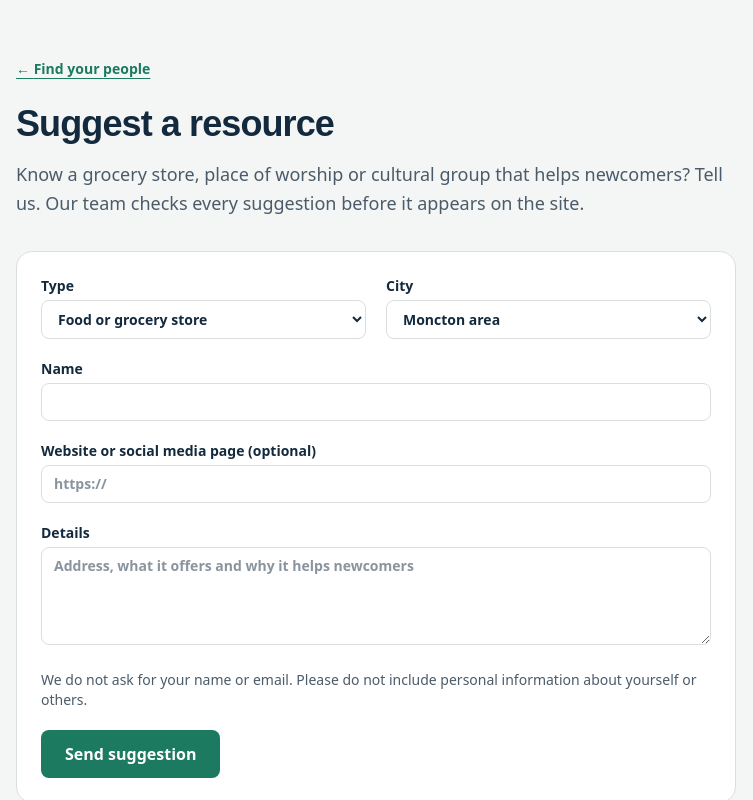
Scenario: SuggestPage › lists approved suggestions and sends a new one for review
Select "Place of worship" in the dropdown labelled "Type" at (204, 319), box [41,300,366,338]
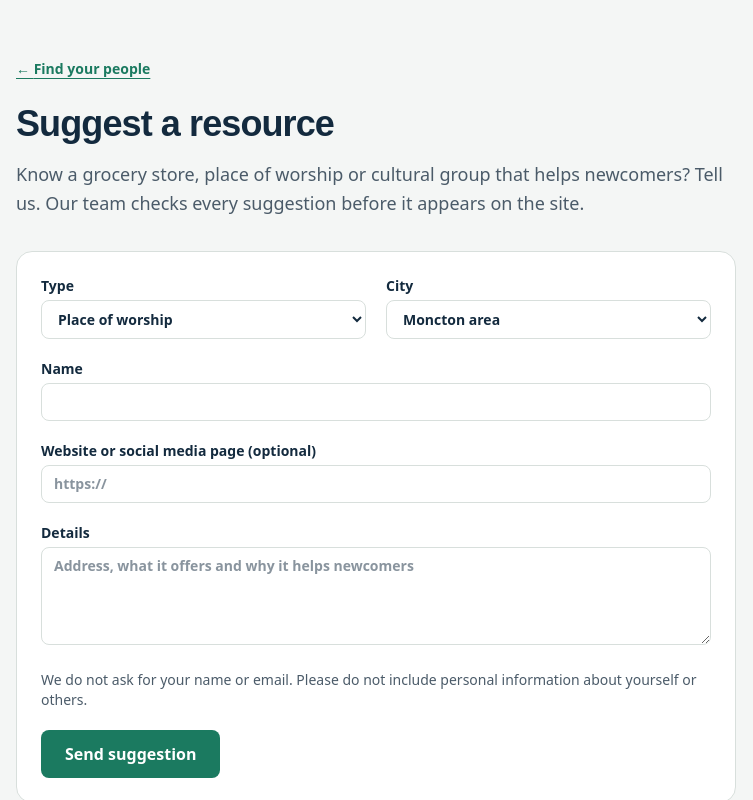
Select "Fredericton" in the dropdown labelled "City" at (548, 319), box [386,300,711,338]
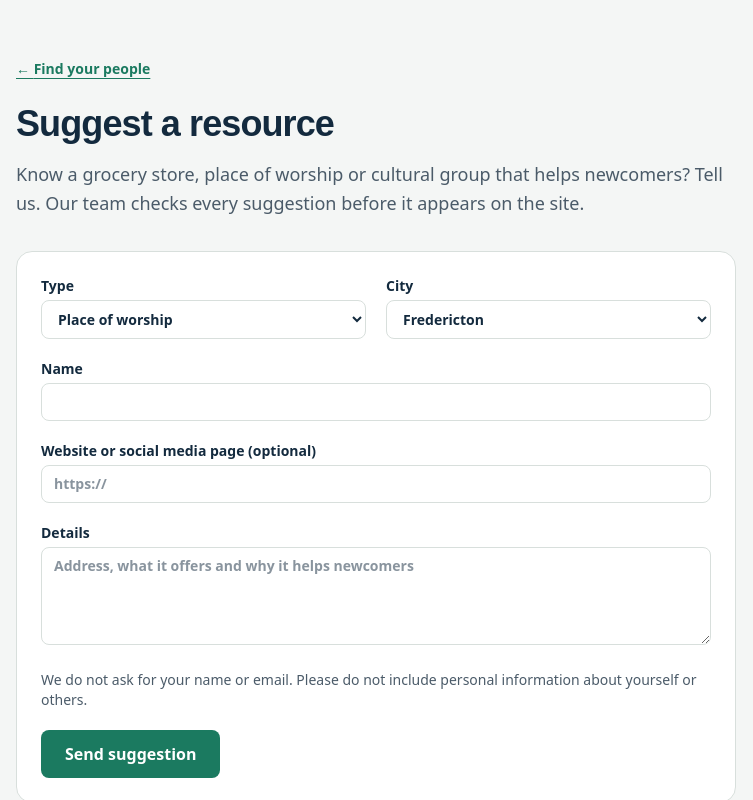
Type "Hindu Temple" into the field labelled "Name" at (376, 402), box [41,382,711,420]
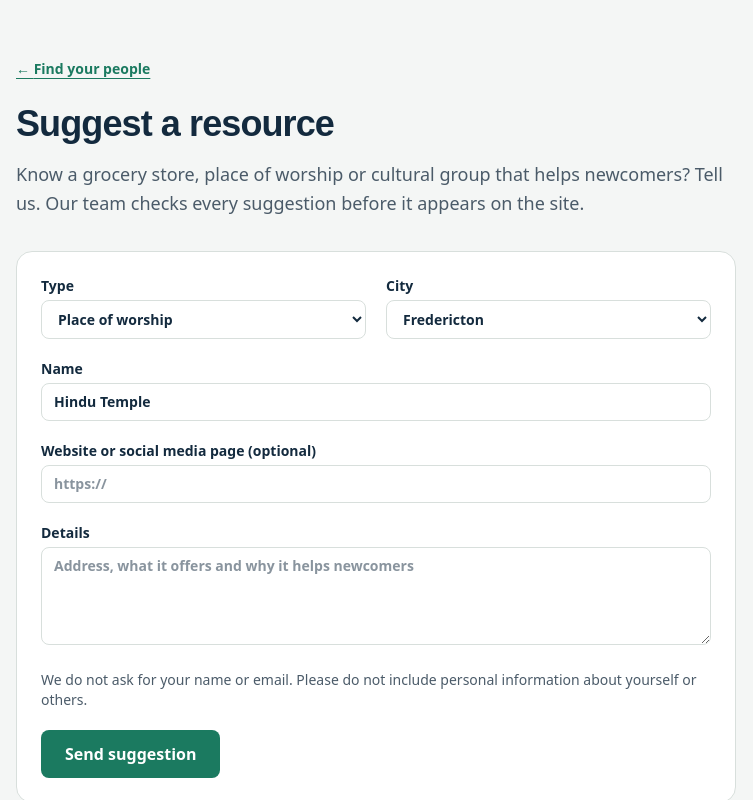
Type "Weekly prayers and festivals" into the text box labelled "Details" at (376, 596), box [41,546,711,644]
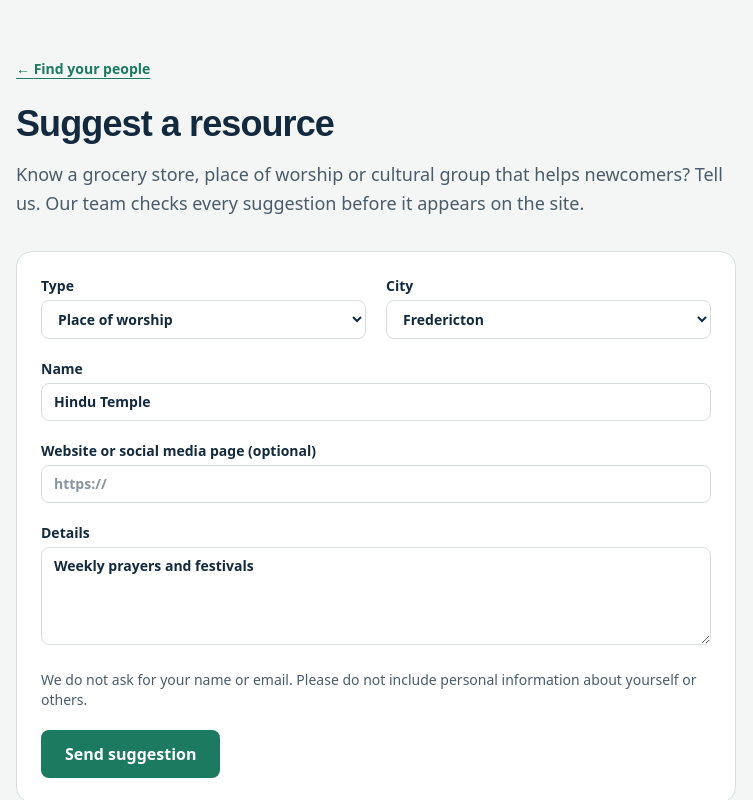
Click the button "Send suggestion" at (131, 754), box [41,730,220,778]
(page scrolled)
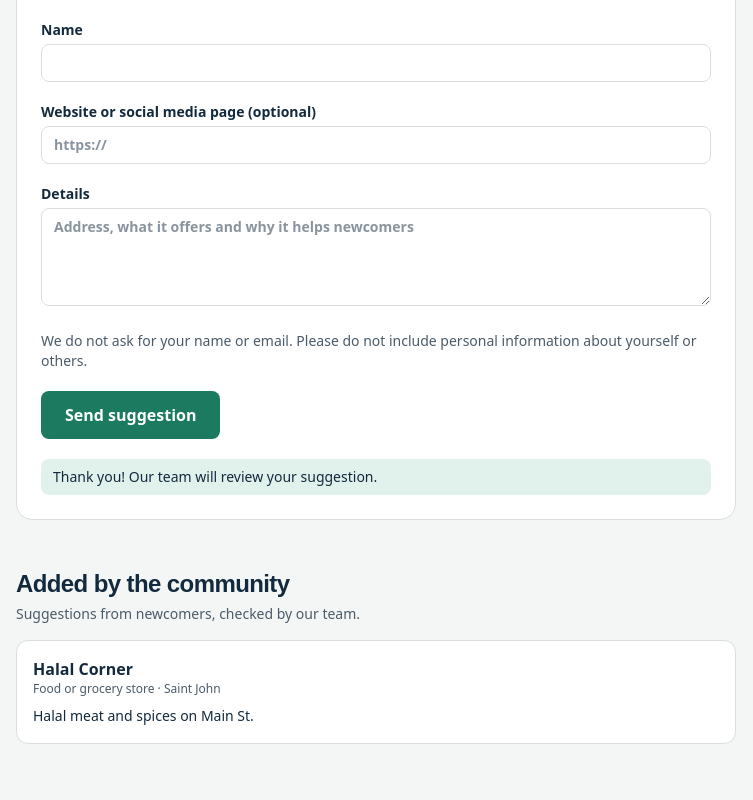
Check: the message shows "Our team will review your suggestion", box [53,466,377,486]
